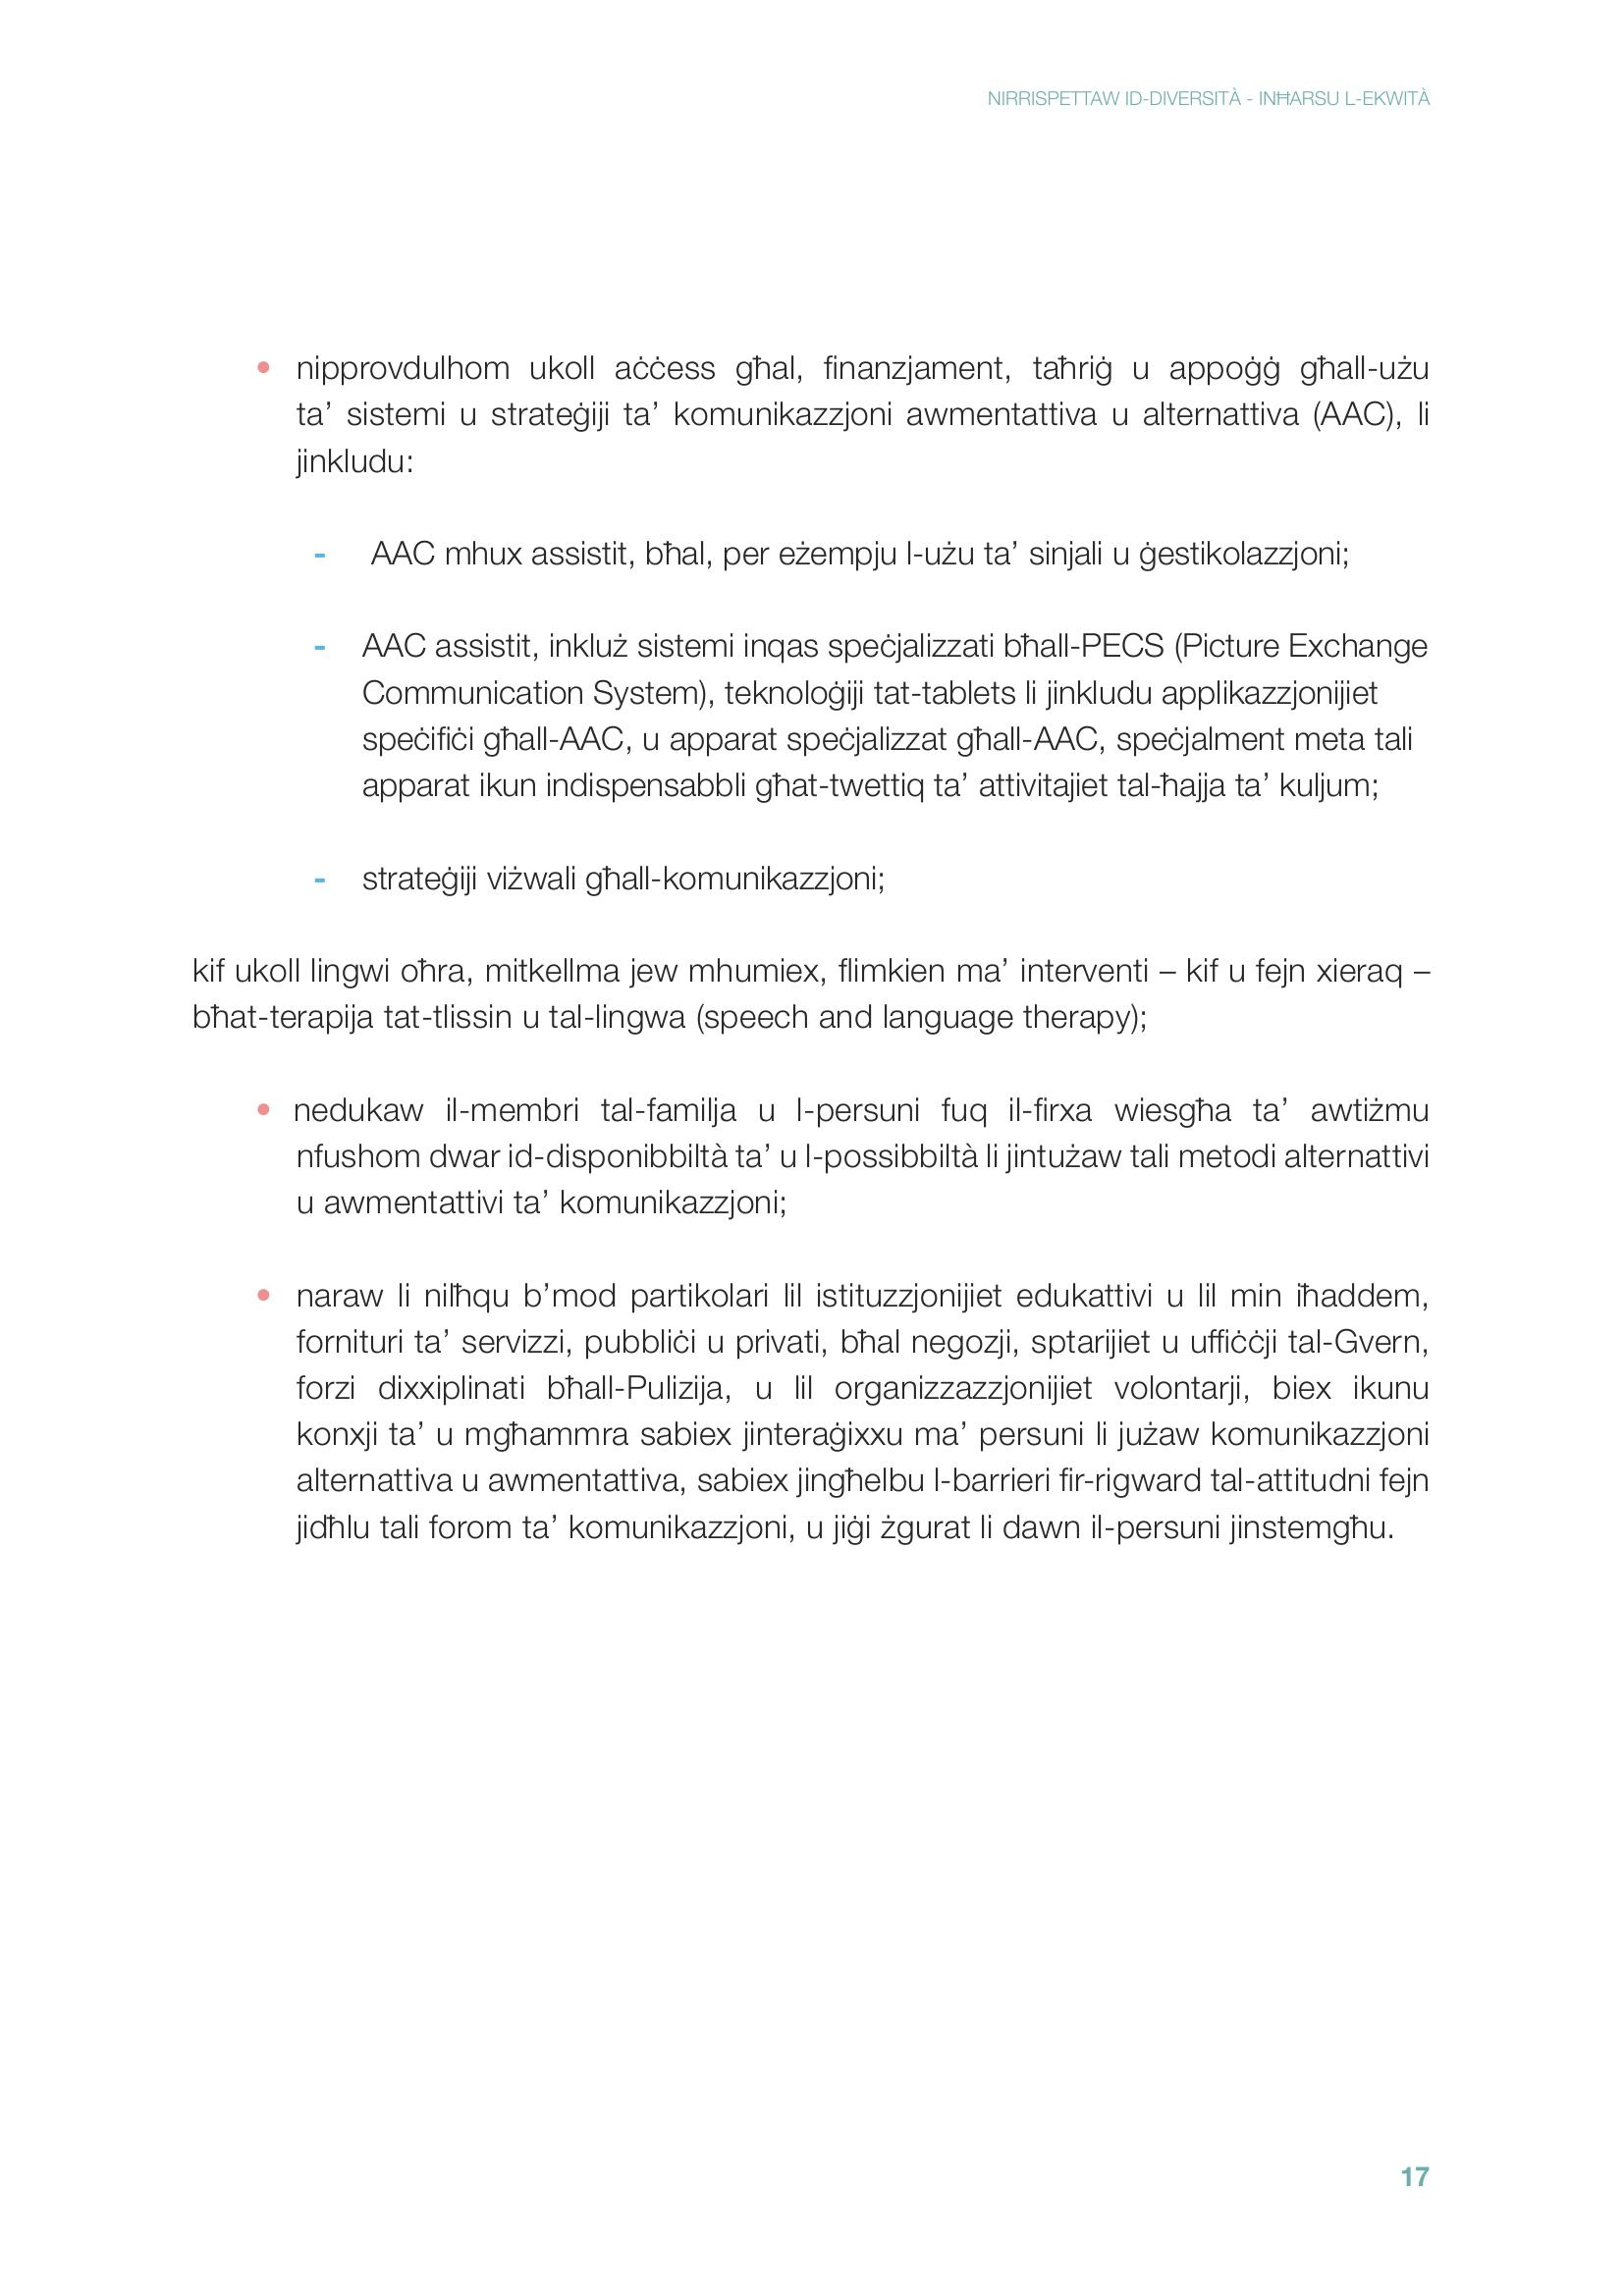text: (165, 334, 1445, 1581)
